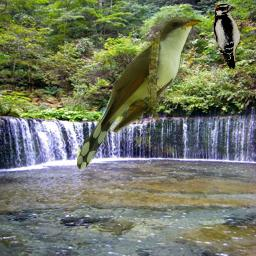Cuckoo: (77, 17, 201, 169)
Woodpecker: (214, 4, 248, 69)
